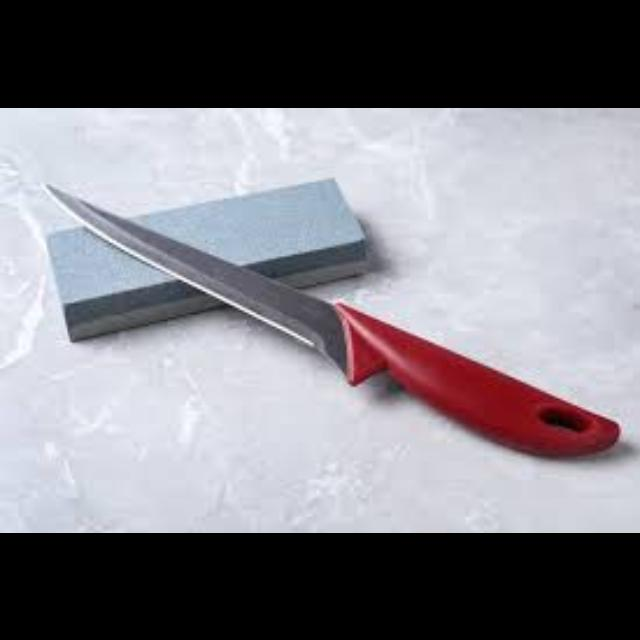knife: (43, 180, 622, 456)
